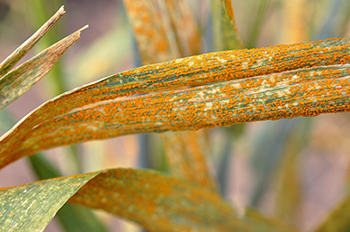Yellow Rust: (17, 70, 350, 132)
